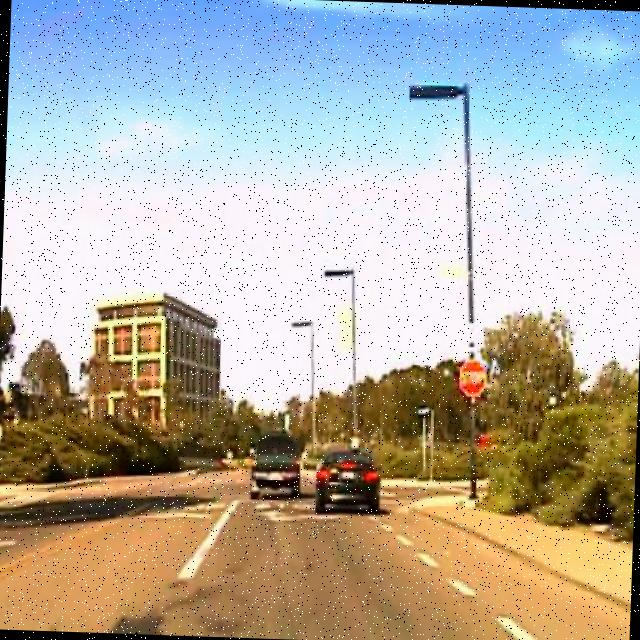Stop: (456, 358, 488, 399)
